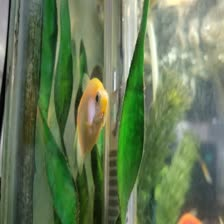Plano: (64, 71, 119, 171)
